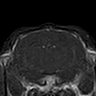Brain: (17, 32, 83, 79)
